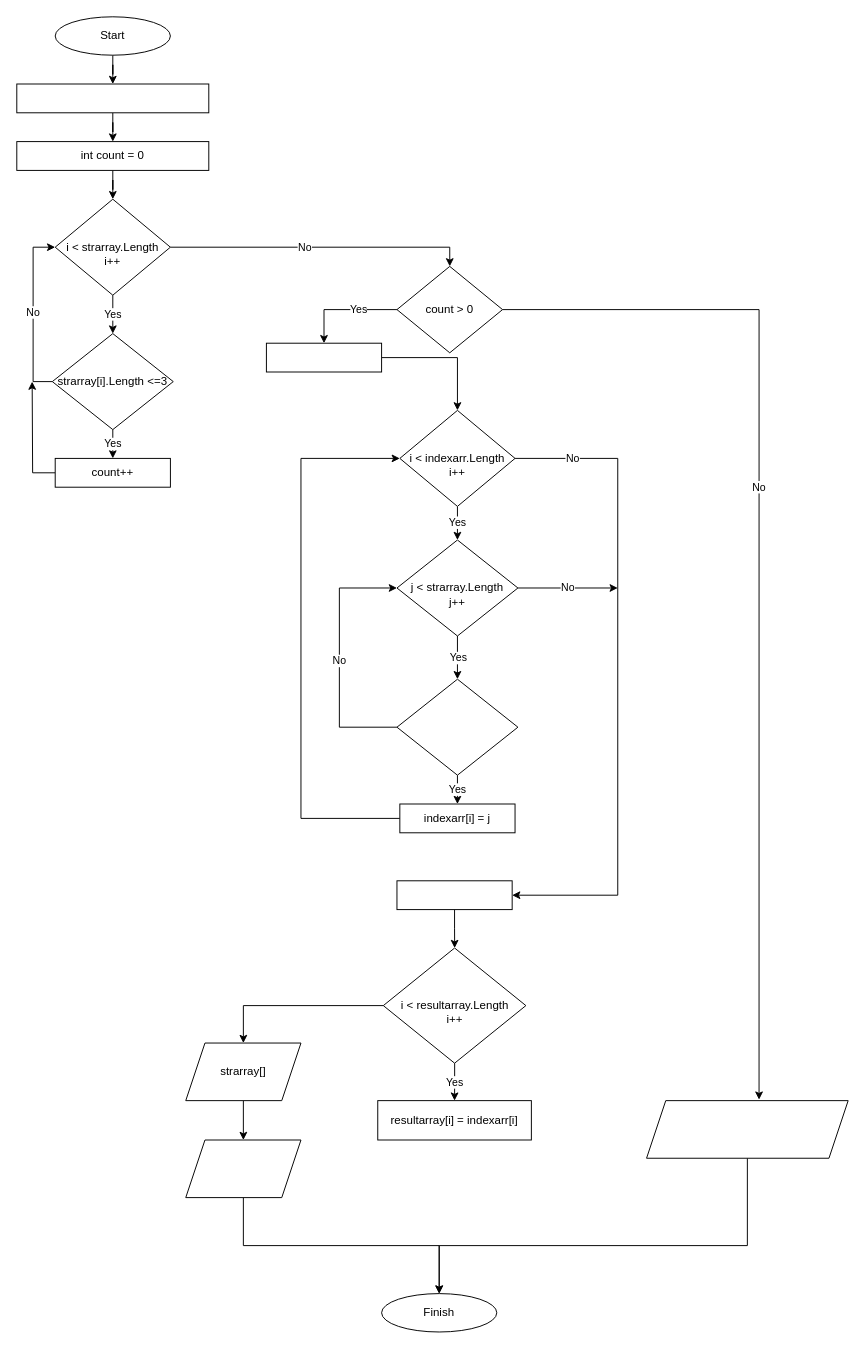
Some shapes in this 865 by 1349 pixel diagram are drawn without their labels. The centre of each missing label's shape, as x and y in pixels:
indexarr = [count]: the point at 323,357
resultarray = [count]: the point at 454,895
resultarray[]: the point at 243,1168
strarray = [str1, str2,str3......,strn]: the point at 112,98
strarray[j].Length <=3: the point at 457,726
В массиве нет строк менее 3 символов!: the point at 747,1129
